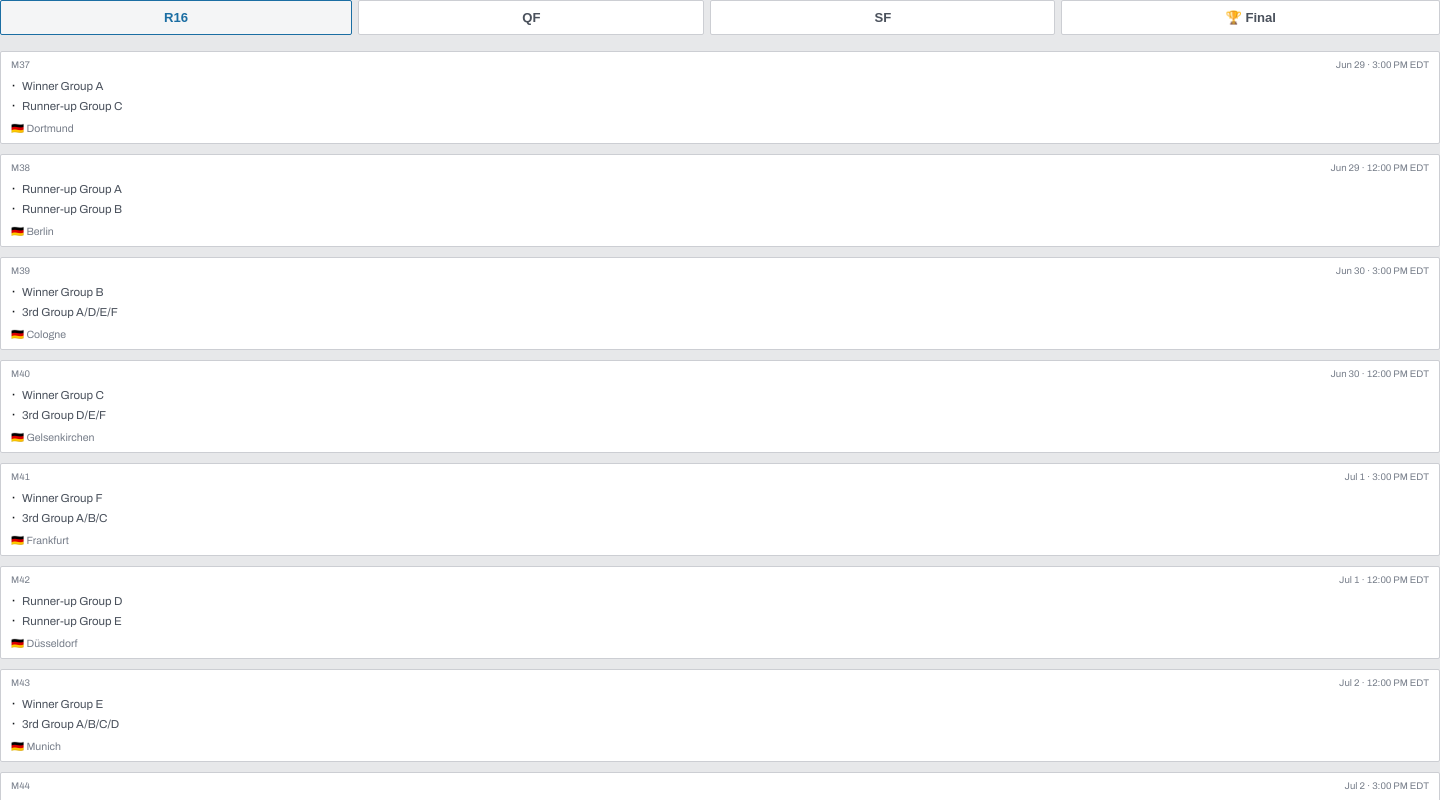
Test: Bracket — mobile round view › switches the visible round when a pill is tapped
Click the tab with aria-label "Quarter-final": (531, 18) [358,0,704,35]
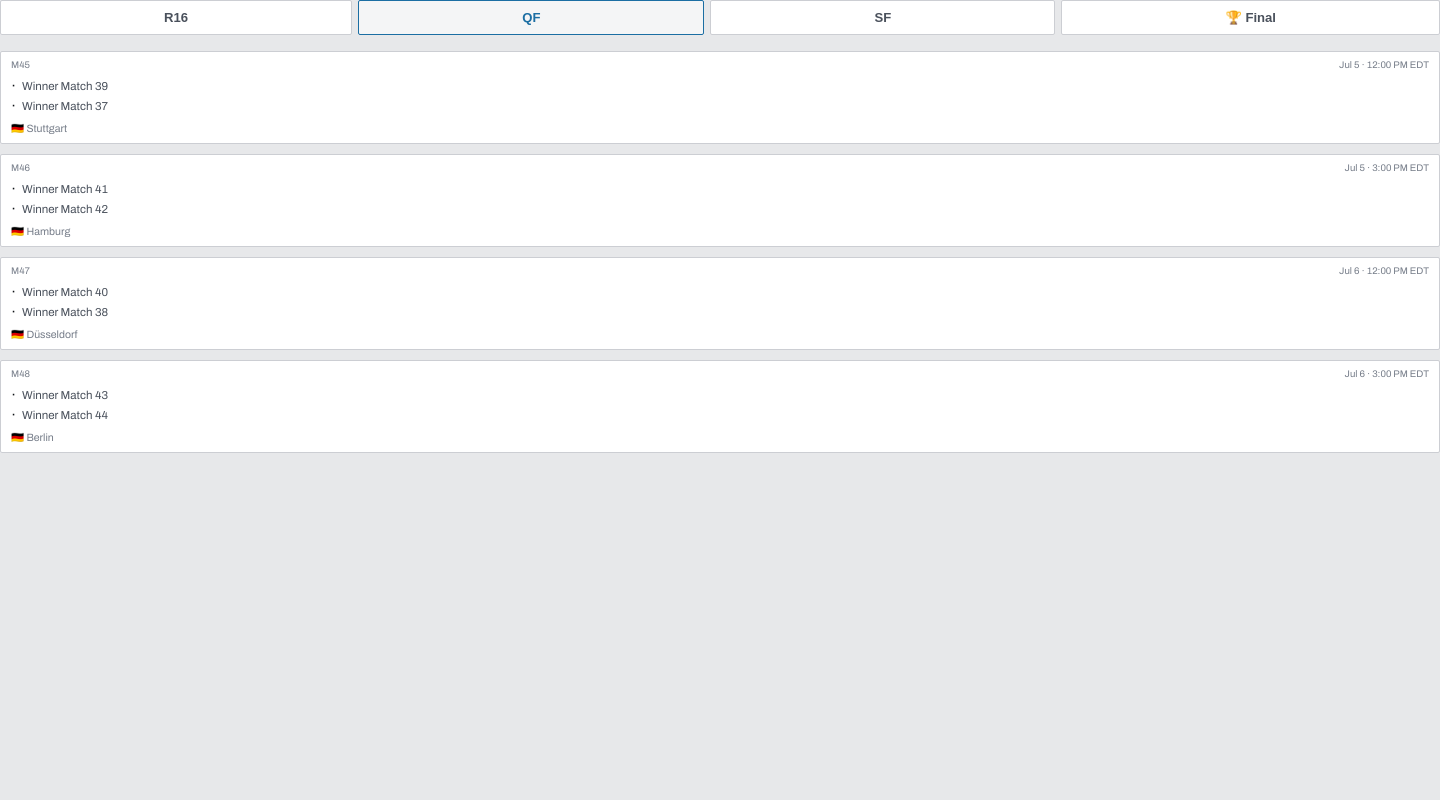
Now the button with id "bx-m45" is shown, box [0,51,1439,144]
Now the button with id "bx-m37" is gone
